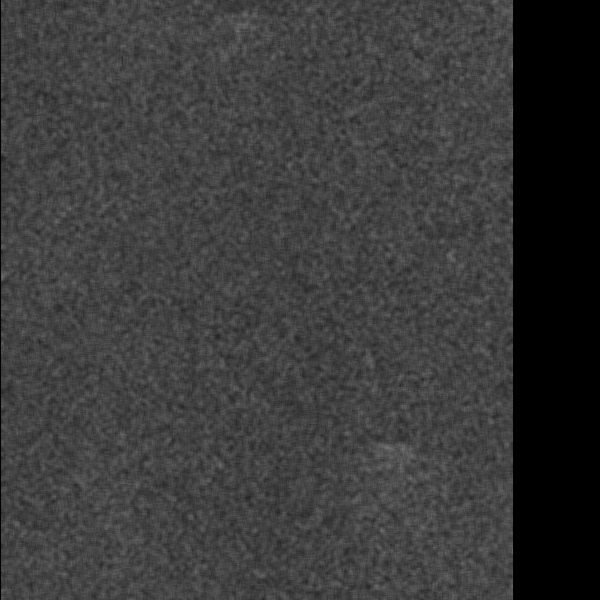spark: (284, 343, 316, 380)
